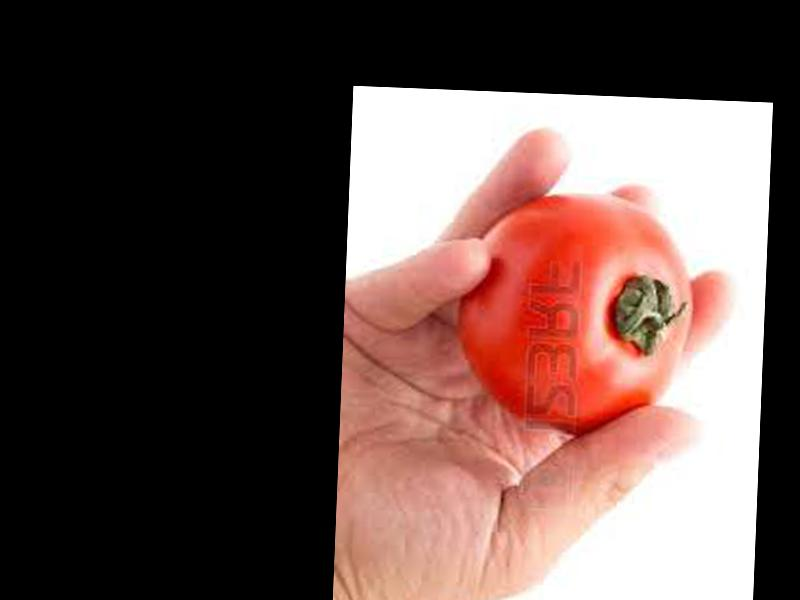Tomato: (455, 188, 696, 436)
